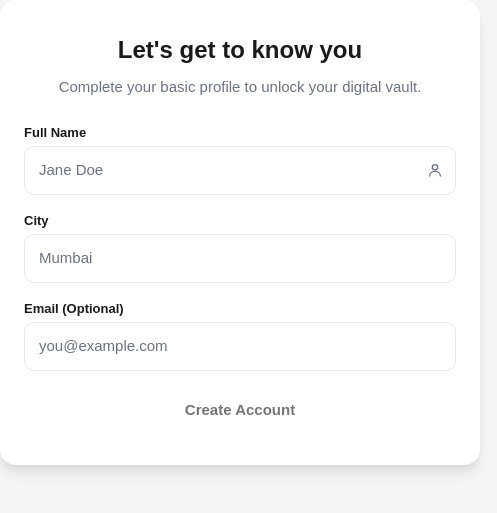
ProfileSetupForm › requires a name of at least two characters
This screenshot has width=497, height=513.
Type "J" into the field labelled "Full Name".
click(228, 170); type("J")  # box [37, 147, 419, 194]
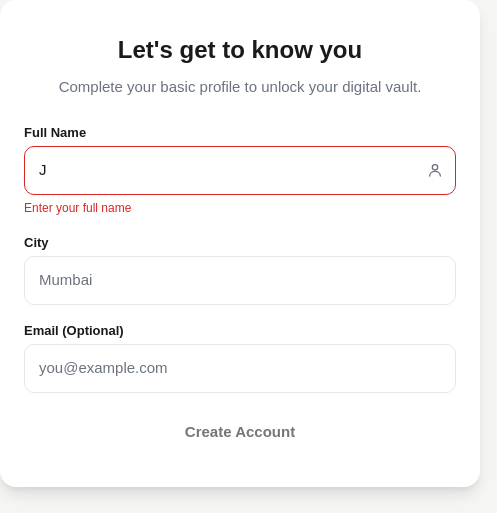
expect the button "Create Account" is disabled: met, box [24, 408, 456, 455]
expect the text "Enter your full name" is shown: met, box [24, 200, 131, 214]
